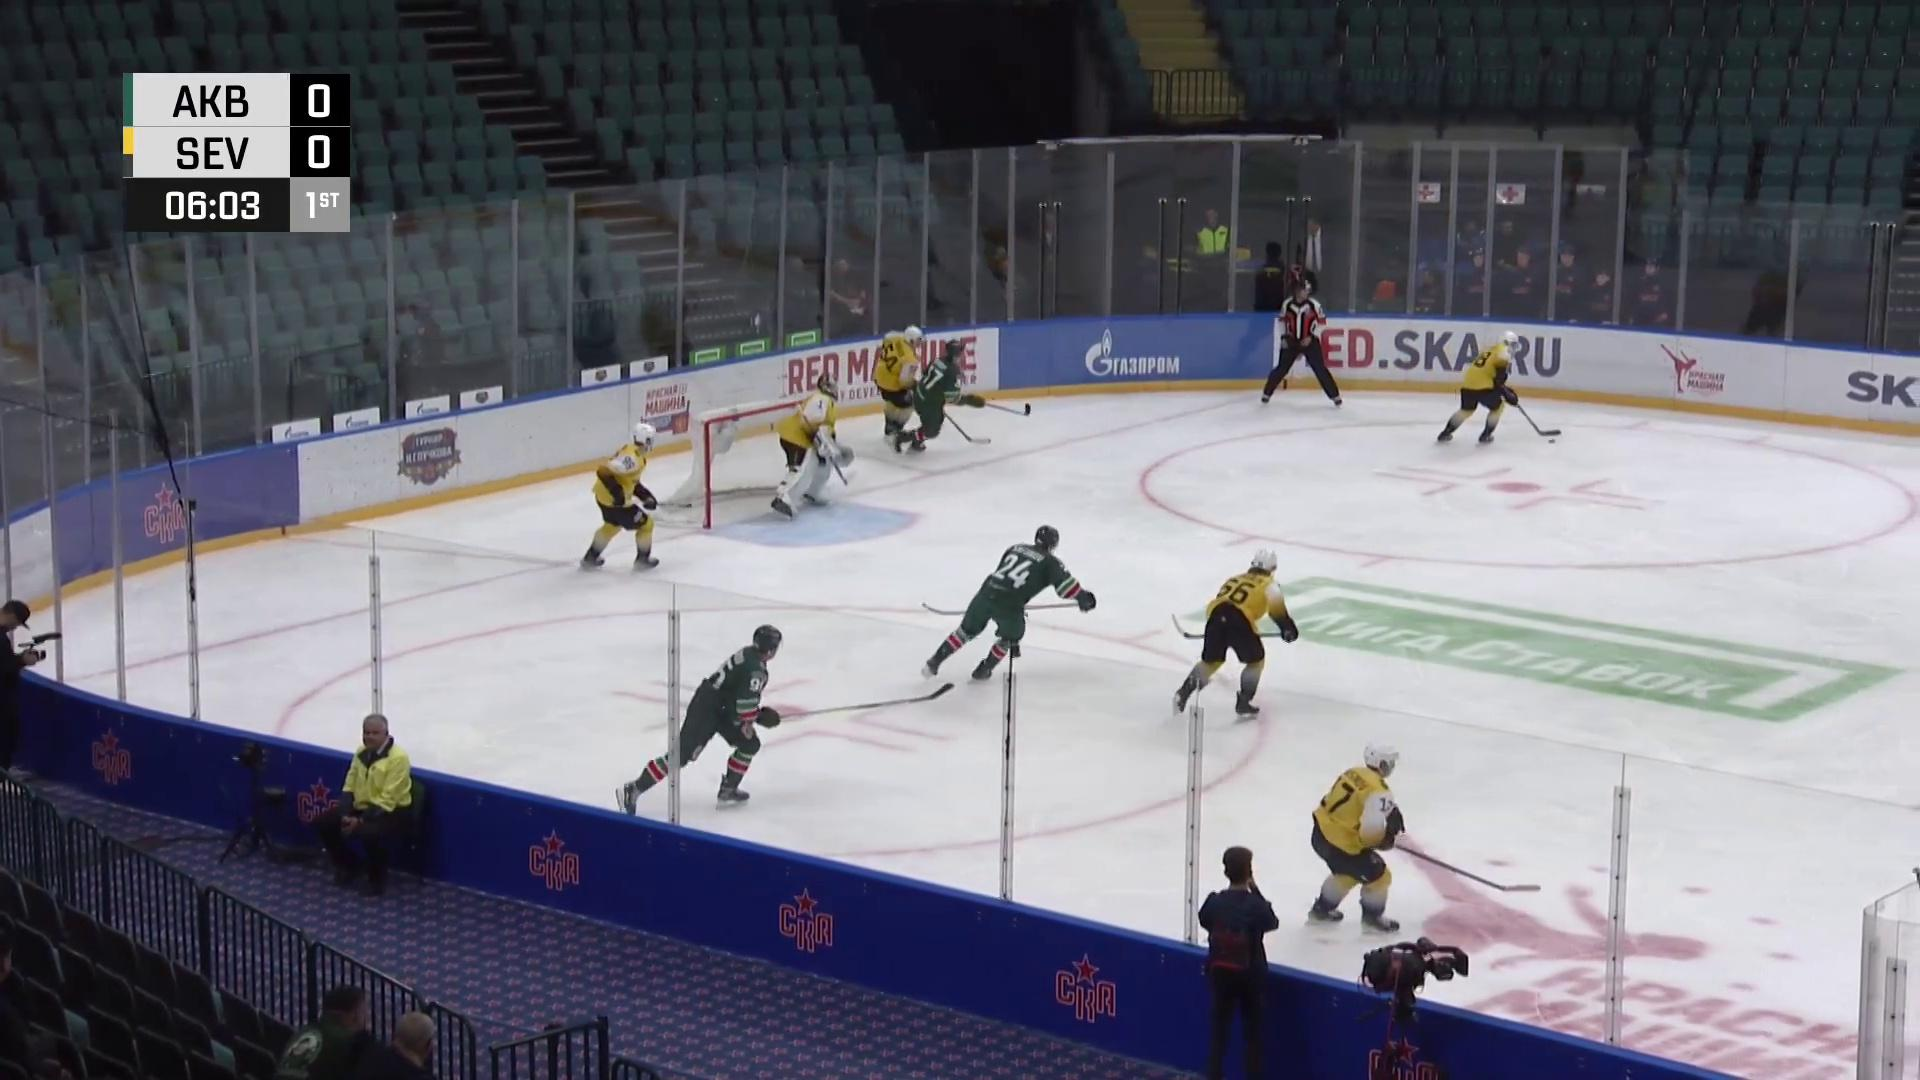ball: (1547, 439, 1557, 444)
